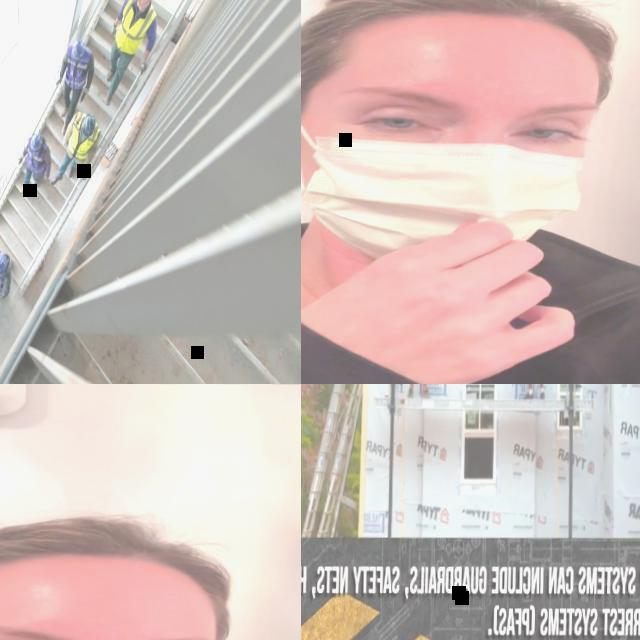helmet: (72, 38, 86, 62), (82, 112, 96, 136), (30, 132, 42, 152), (0, 253, 8, 272)
mask: (301, 89, 596, 263)
no_helmet: (0, 502, 249, 603), (301, 0, 612, 64)
no_mask: (137, 1, 146, 8)
no_vest: (301, 263, 640, 384)
person: (301, 0, 640, 384), (0, 493, 301, 640), (104, 0, 159, 105), (49, 109, 102, 185), (55, 37, 95, 134), (17, 132, 52, 194), (0, 248, 12, 299)
vest: (116, 0, 159, 53), (68, 110, 102, 158), (66, 42, 92, 87), (28, 134, 48, 168)
